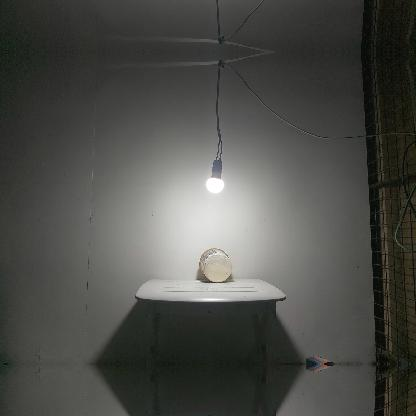Lady-s-Choice: (199, 248, 231, 282)
